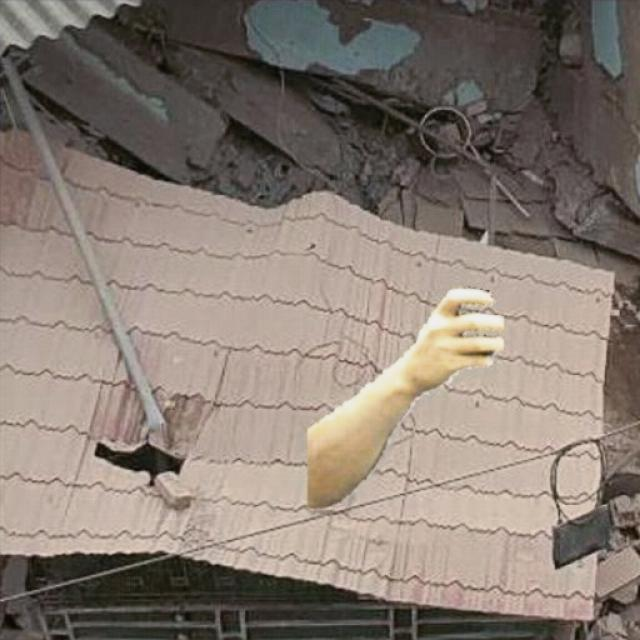Person in Rubble: (308, 286, 502, 510)
